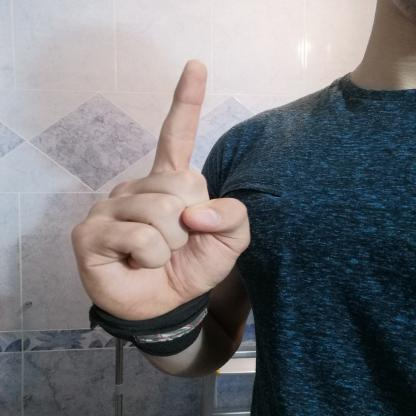BAA: (56, 52, 262, 328)
